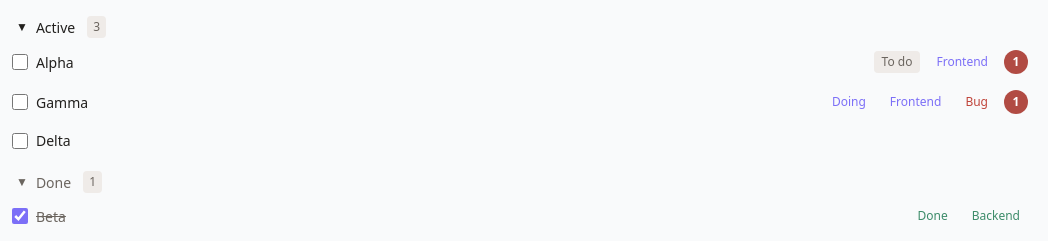
Test: ListViewLens › group collapsing › clicking a group header collapses it and hides rows
Expected: the button with test id "item-row-1" is shown, [12,42,1036,82]
// Collapse by clicking header
Click the button with test id "group-active".
click(56, 27)  # box [12,12,1036,42]
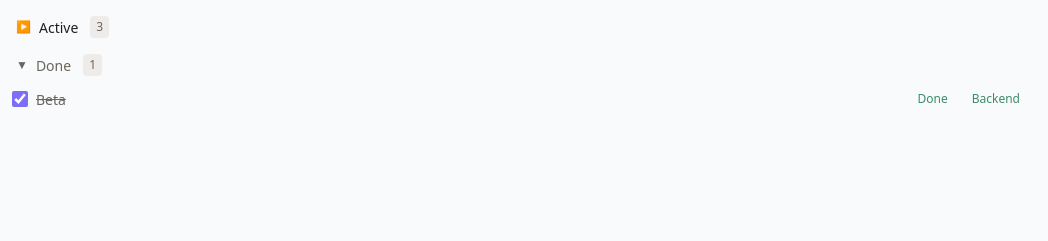
Result: the button with test id "item-row-1" is gone
